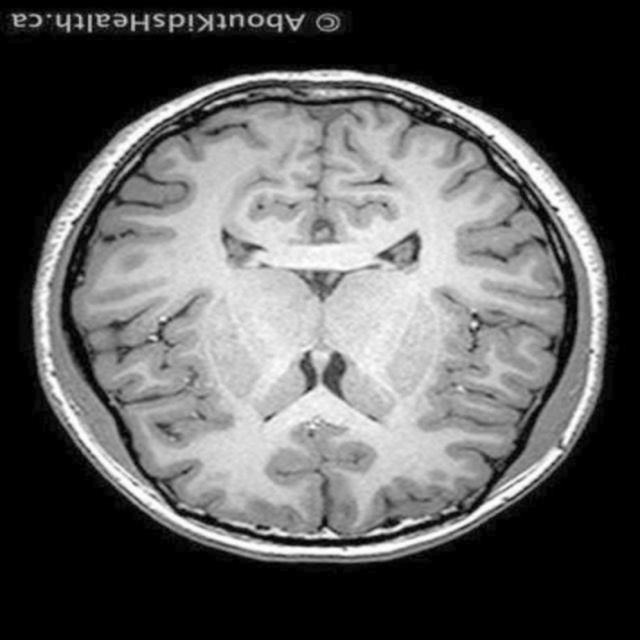glioma tumor: (166, 126, 484, 494)
